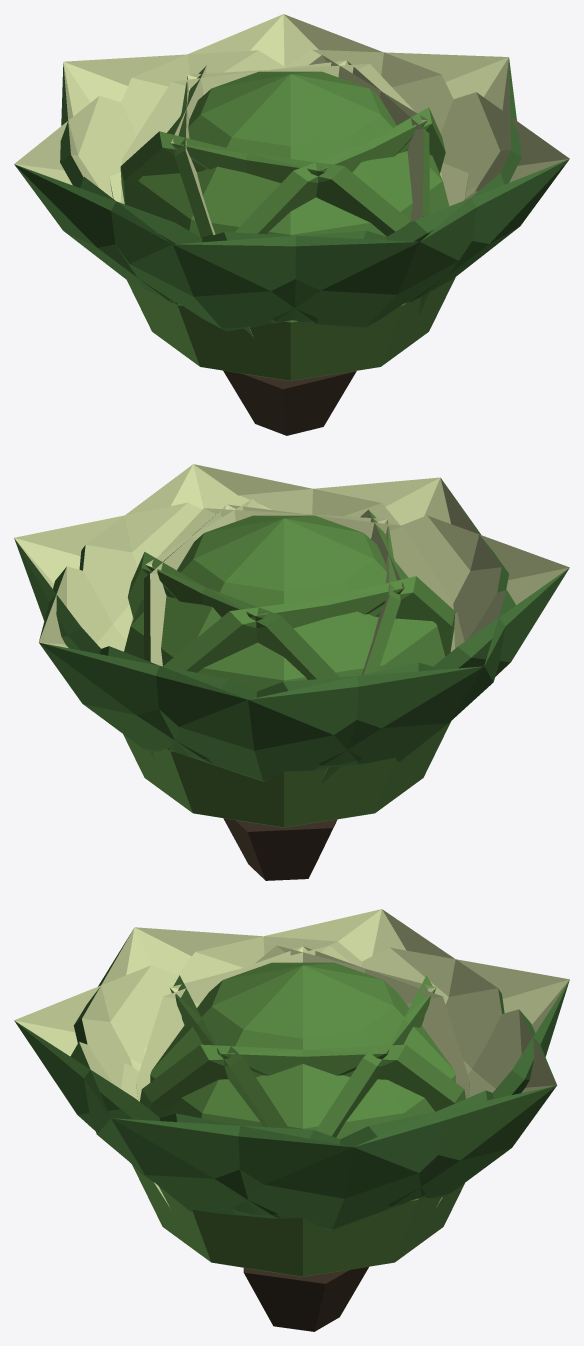
File: mdvl_farm_cabbage_stage_03.glb
The picture shows the model from 3 angles, top to bottom: view 1: azimuth 30°, elevation 25°; view 2: azimuth 150°, elevation 25°; view 3: azimuth 270°, elevation 25°; orthographic projection.
Parts seen in each view (by area): view 1: mdvl_farm_cabbage_stage_03; view 2: mdvl_farm_cabbage_stage_03; view 3: mdvl_farm_cabbage_stage_03.
Boxes of the visible parts, bbox=[...] form: mdvl_farm_cabbage_stage_03: bbox=[14, 14, 569, 435]; mdvl_farm_cabbage_stage_03: bbox=[14, 464, 569, 880]; mdvl_farm_cabbage_stage_03: bbox=[14, 909, 569, 1331].
Size of the model in its own units: 0.2686 by 0.185 by 0.265.
Materials: 1 (1 with a texture image).
